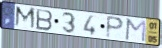3: (61, 11, 77, 34)
4: (82, 14, 98, 37)
B: (35, 8, 54, 32)
M: (124, 18, 148, 44), (14, 5, 37, 31)
P: (105, 15, 126, 40)
